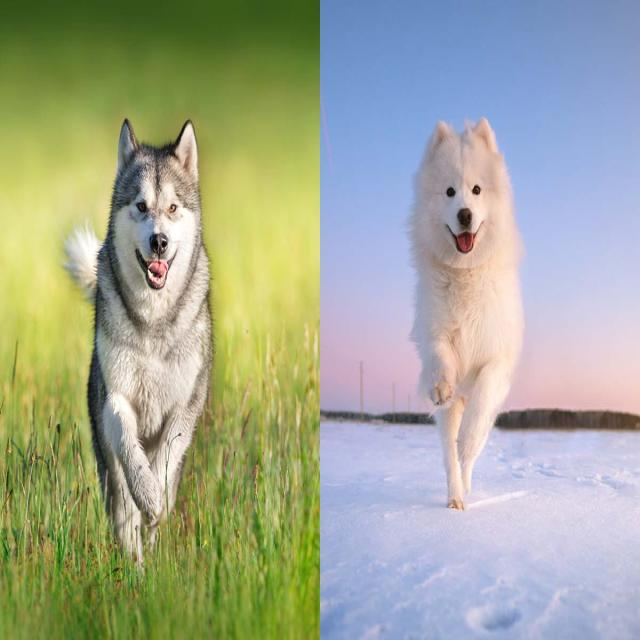ALASKAN_MALAMUTE: (45, 85, 227, 580)
